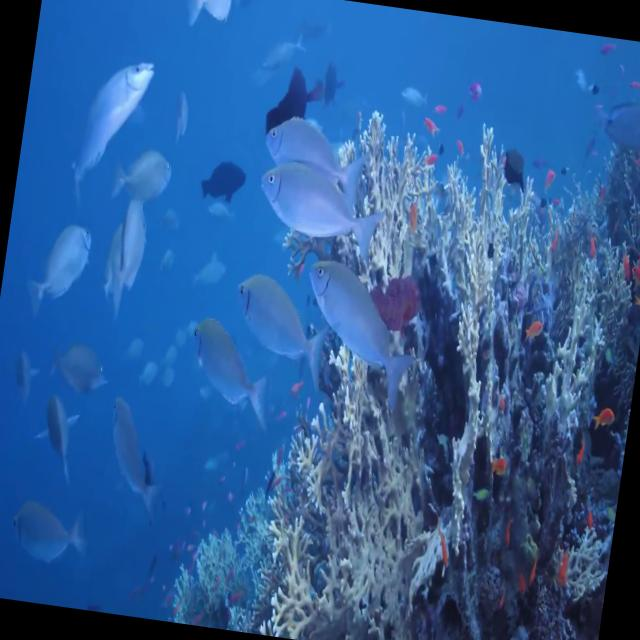fish: (290, 253, 427, 397), (63, 51, 155, 210), (252, 156, 388, 258), (220, 268, 342, 374), (177, 311, 277, 431), (256, 108, 372, 201), (92, 399, 178, 518), (0, 493, 99, 570), (101, 190, 153, 314), (30, 222, 96, 318), (34, 388, 84, 476), (108, 142, 176, 206), (198, 153, 250, 212)
